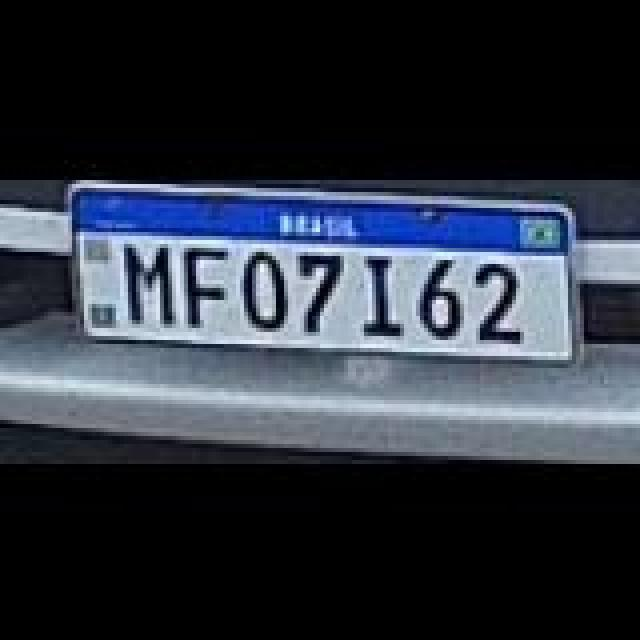2: (466, 258, 534, 342)
6: (410, 254, 470, 338)
7: (290, 252, 358, 332)
F: (174, 242, 242, 326)
I: (354, 250, 414, 334)
M: (116, 236, 188, 324)
O: (234, 248, 302, 328)
